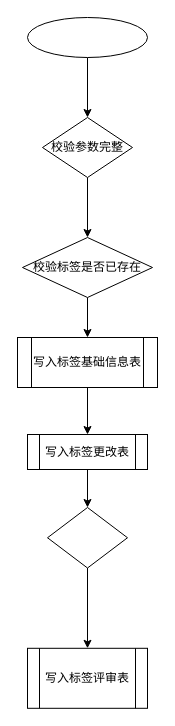
The diagram is 175 pixels wide and 726 high, and some of its shapes have lost their labels. Here are the shapes that lost their labels. From the top down, the box of each, then its label:
(26, 16, 148, 58): 标签默认新建
(46, 506, 128, 568): 是否上线
